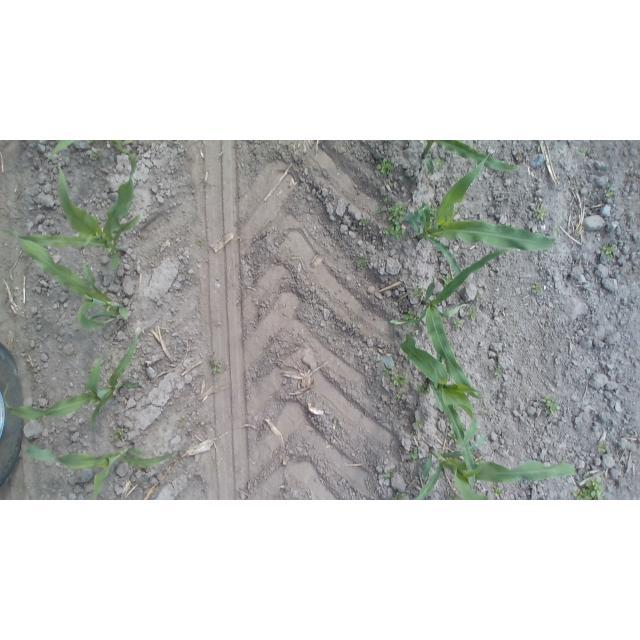Maize: (405, 153, 558, 288), (392, 245, 520, 401), (5, 155, 144, 270), (3, 331, 145, 435), (10, 231, 135, 333), (406, 436, 583, 500), (13, 438, 183, 500), (424, 334, 478, 489), (417, 141, 524, 174), (44, 141, 140, 157)
Weeds: (383, 203, 408, 244), (571, 475, 606, 500), (391, 310, 424, 335), (374, 156, 398, 178), (541, 395, 560, 418), (110, 425, 129, 444), (601, 242, 619, 262), (210, 359, 229, 377), (390, 372, 411, 388), (532, 203, 550, 221), (595, 441, 612, 456), (409, 445, 422, 464), (446, 428, 458, 448), (530, 281, 547, 295), (413, 285, 428, 300), (467, 307, 481, 323), (450, 317, 464, 332), (494, 366, 506, 383), (412, 417, 426, 431), (90, 150, 105, 163), (355, 256, 370, 268), (442, 273, 454, 288), (358, 218, 370, 232), (435, 156, 449, 168), (413, 385, 428, 396), (392, 490, 408, 500), (603, 185, 614, 199), (577, 147, 591, 158), (393, 391, 407, 402), (330, 415, 342, 427), (177, 415, 191, 425), (474, 295, 488, 305), (185, 267, 196, 279), (480, 404, 491, 416), (491, 488, 503, 499), (375, 205, 386, 217), (383, 470, 395, 480), (381, 365, 391, 376), (194, 238, 205, 247), (382, 195, 392, 204)
